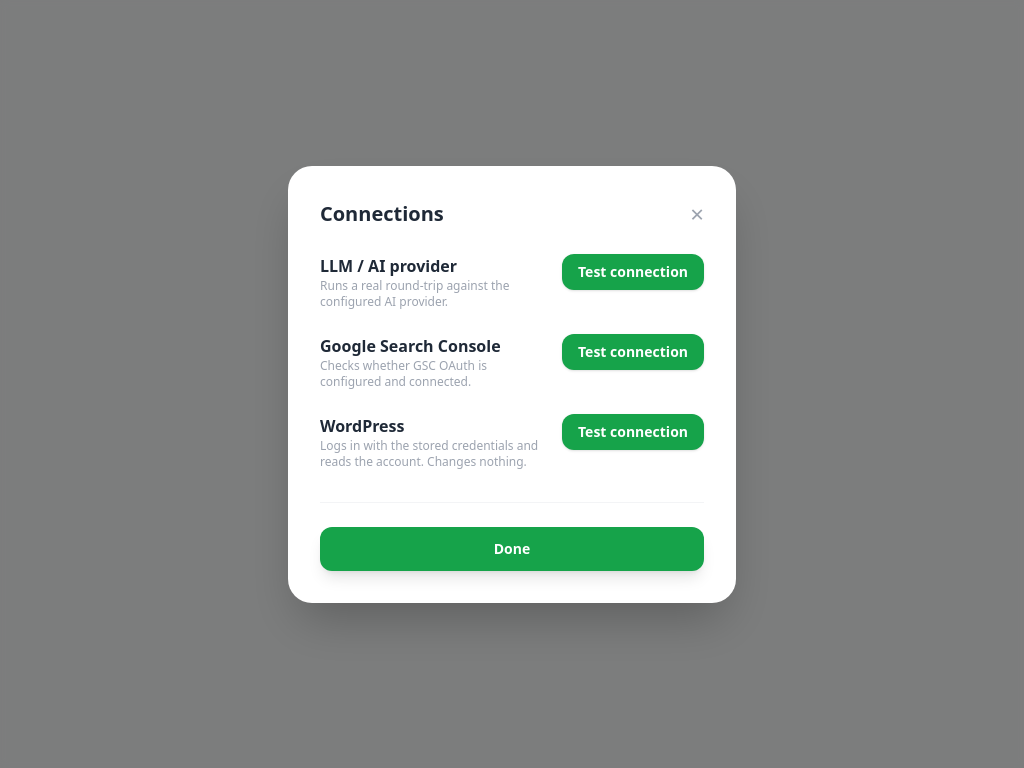
it: ConnectionsPanel › GSC test renders connected state
Note: The GSC row's Test connection button is the second one.
Click the button "Test connection" next to "Google Search Console" at point(633, 352), box [562,334,704,370]
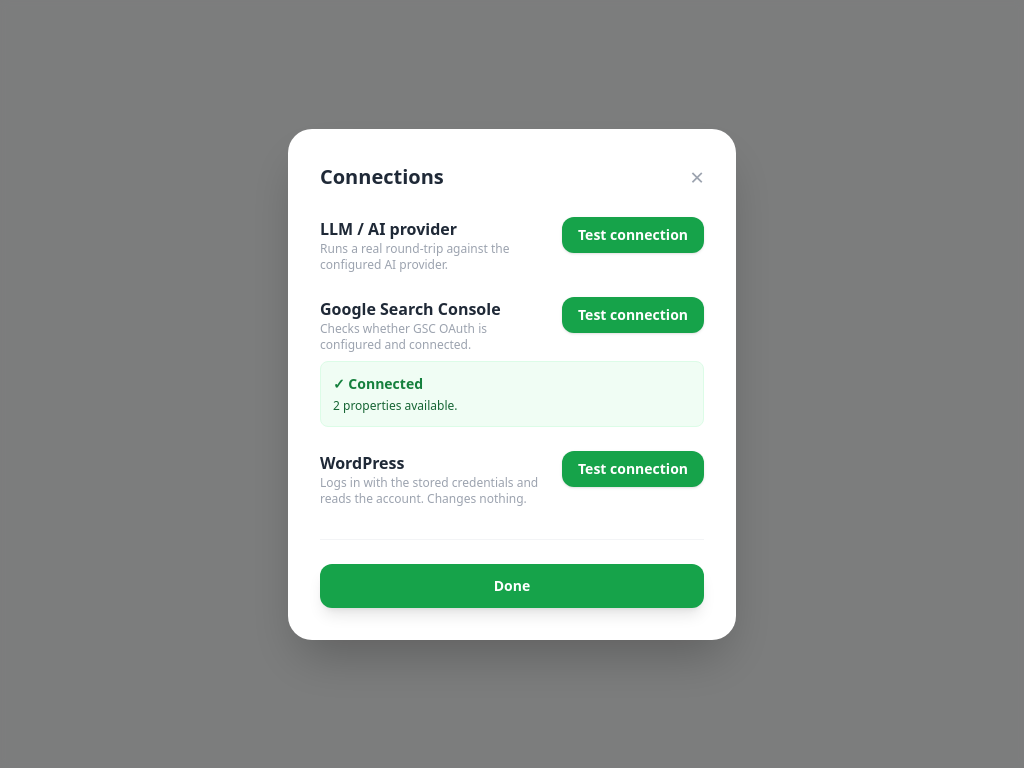
expect the text "✓ Connected" is shown: met, box [333,374,423,392]
expect the text "2 properties available." is shown: met, box [333,396,458,414]
